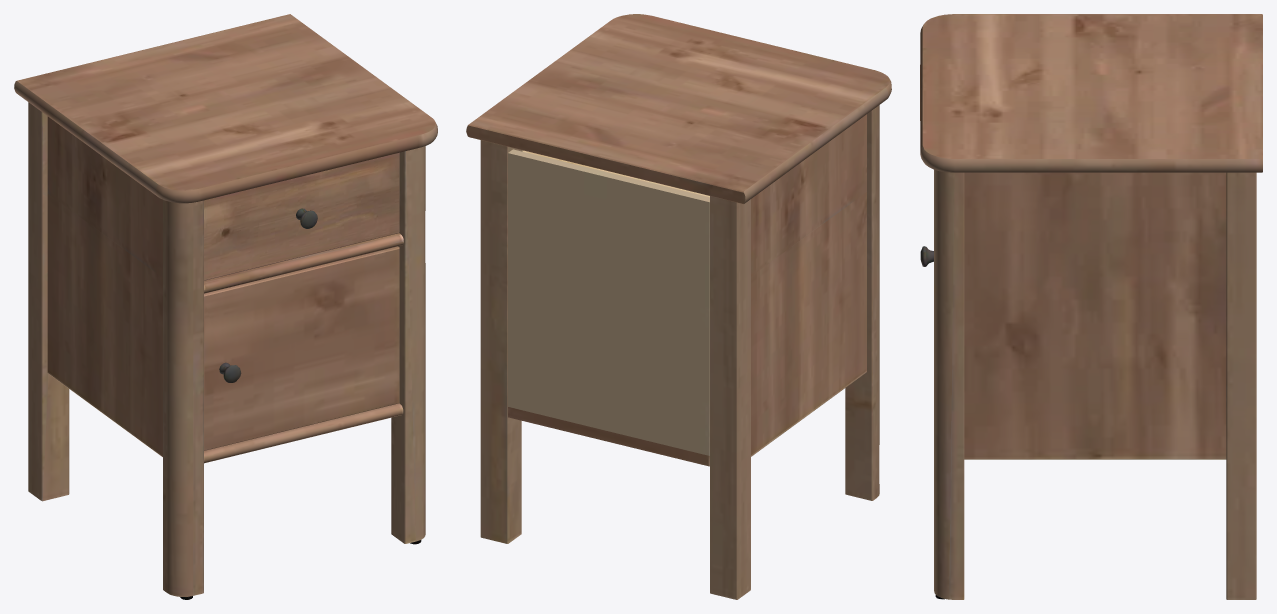
The picture shows the model from 3 angles, left to right: view 1: azimuth 30°, elevation 25°; view 2: azimuth 150°, elevation 25°; view 3: azimuth 270°, elevation 25°; orthographic projection. The views are drawn at different scales.
Visible parts, largest first — view 1: ASY_ART_70590924_S01_NV01, ASY_LPT01_70590924_S01_NV01; view 2: ASY_ART_70590924_S01_NV01; view 3: ASY_ART_70590924_S01_NV01.
Part boxes in pixels (x1=…): ASY_ART_70590924_S01_NV01: x1=14, y1=14, x2=437, y2=599; ASY_LPT01_70590924_S01_NV01: x1=204, y1=152, x2=399, y2=280; ASY_ART_70590924_S01_NV01: x1=466, y1=14, x2=891, y2=599; ASY_ART_70590924_S01_NV01: x1=920, y1=14, x2=1262, y2=599.
Bounding box in the file's own units: 0.5048 × 0.7191 × 0.4964.
2 materials, 2 textured.
